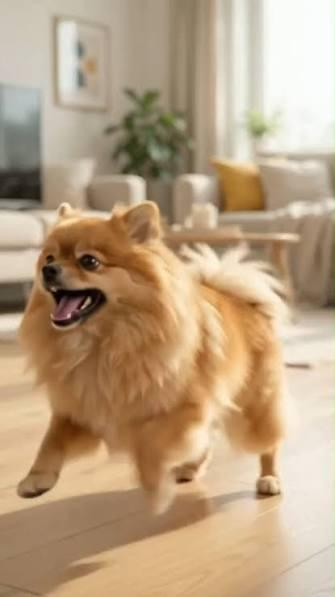adult_dog: (17, 200, 287, 518)
